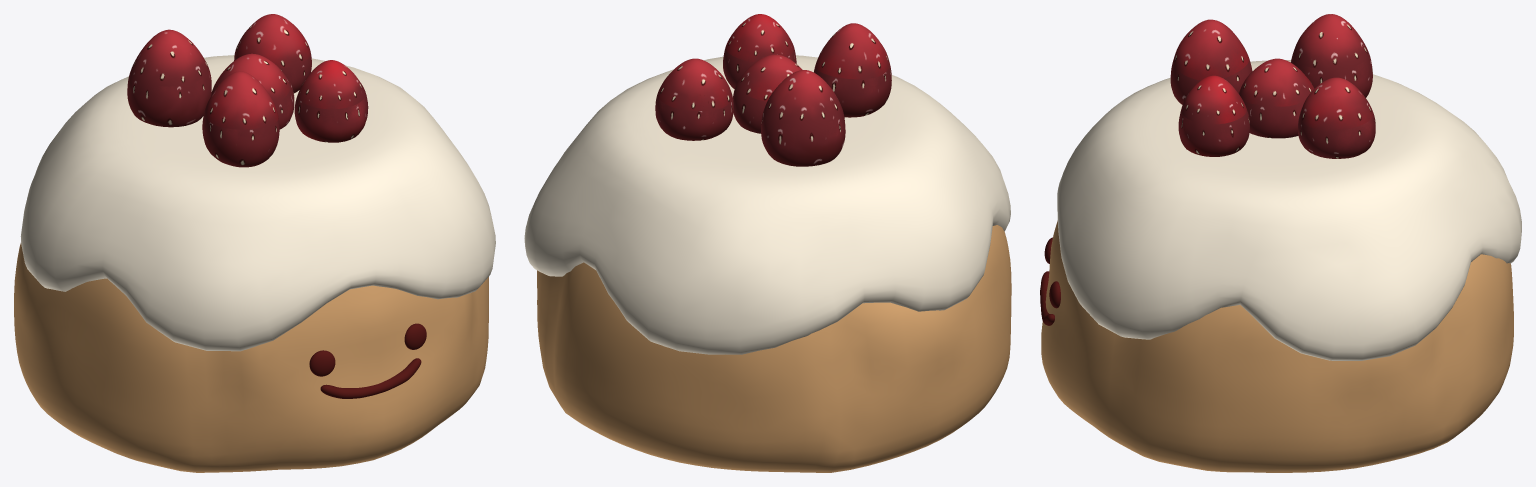
The model's file is Cake.fbx.
3 renders of one model, left to right at view 1: azimuth 30°, elevation 25°; view 2: azimuth 150°, elevation 25°; view 3: azimuth 270°, elevation 25°, orthographic.
Parts seen in each view (by area): view 1: Cake; view 2: Cake; view 3: Cake.
Boxes of the visible parts, x1,y1,x2,y2 form: Cake: (14, 14, 495, 472); Cake: (524, 14, 1011, 472); Cake: (1040, 14, 1521, 472).
Size of the model in its own units: 2.2 by 1.78 by 2.23.
2 materials, 2 textured.
